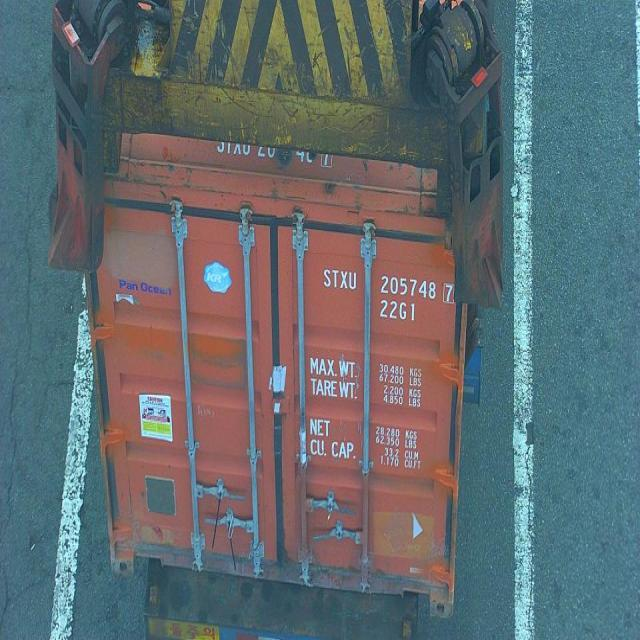ISO: (380, 300, 420, 322)
container_number: (325, 272, 453, 298)
